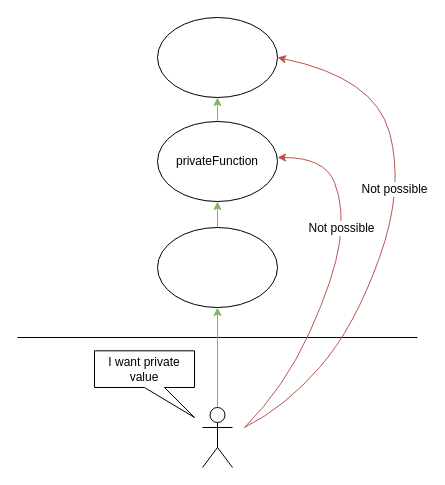
The diagram is 445 pixels wide and 485 high, and some of its shapes have lost their labels. The box of each missing label's shape, as (x1, y1, x2, y2) in pixels:
"Private value": (156, 16, 278, 98)
publicFunction: (156, 226, 278, 308)
